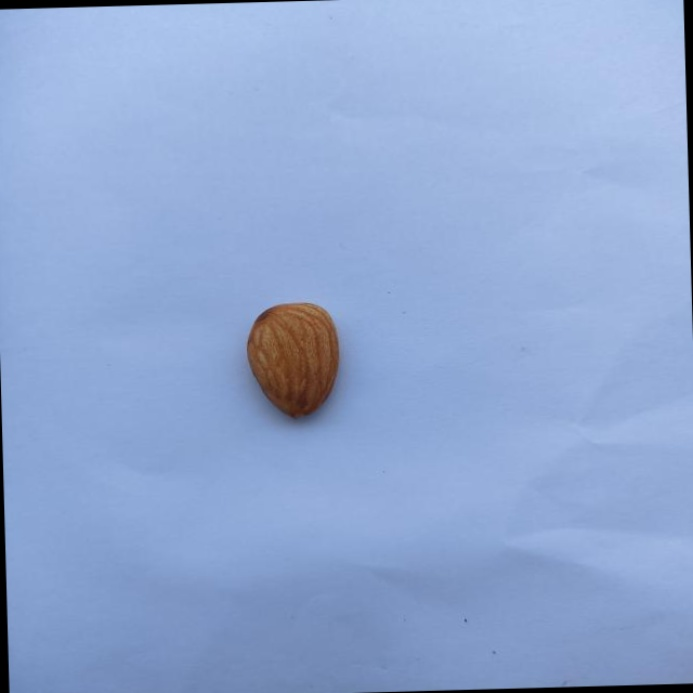grade1: (239, 294, 352, 429)
